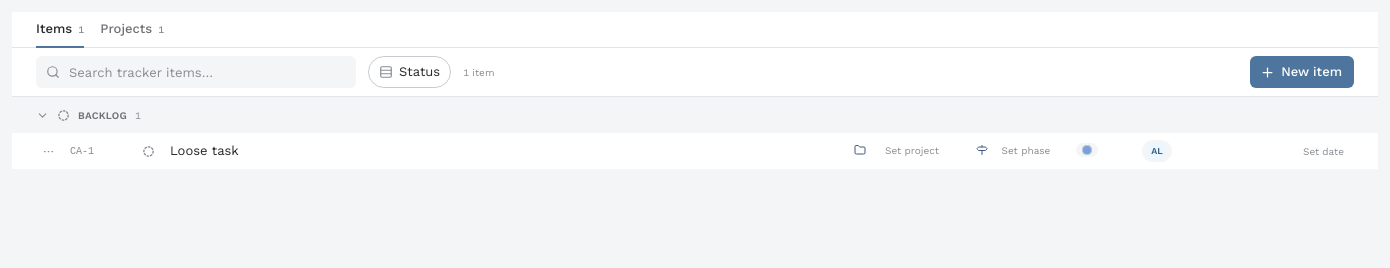
Scenario: TrackerPage items tab › keeps an empty project visible when grouping by project
Check: the text "CA-1" is shown, box [70,146,94,156]
Click the button with aria-label "group by: status" at (410, 72), box [368,56,451,88]
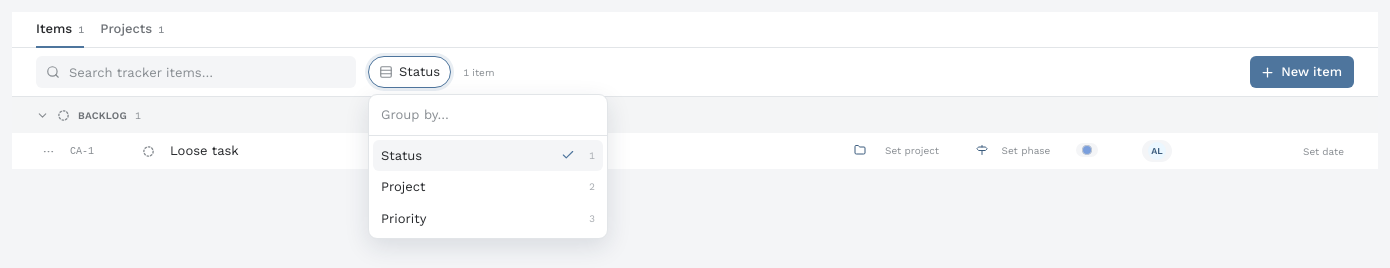
Click the option "Project 2" at (488, 187), box [373,171,603,202]
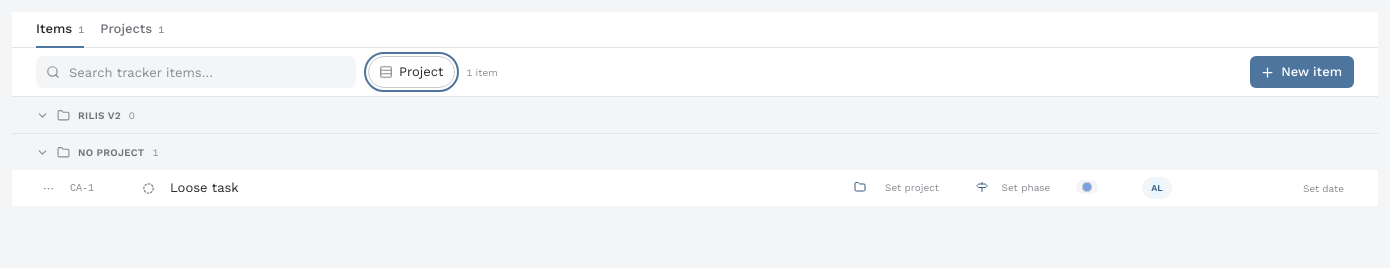
Check: the button with test id "toggle-section-Rilis v2" is shown, box [36,108,1322,122]
